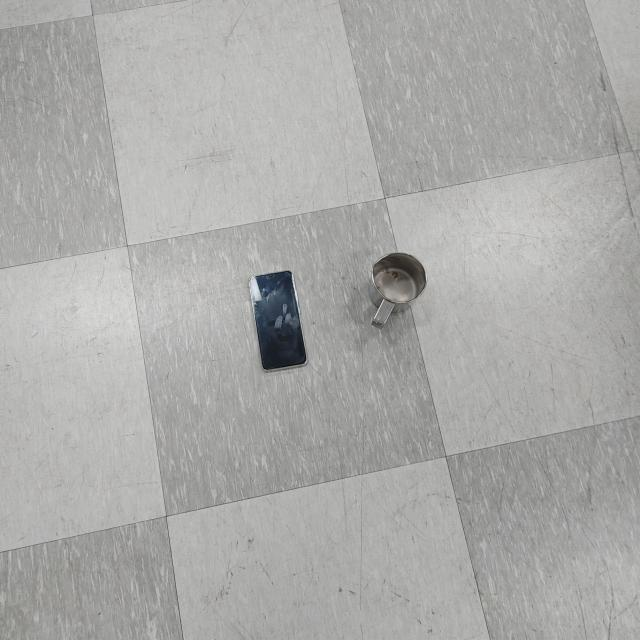cup: (366, 250, 428, 333)
phone: (247, 269, 310, 376)
